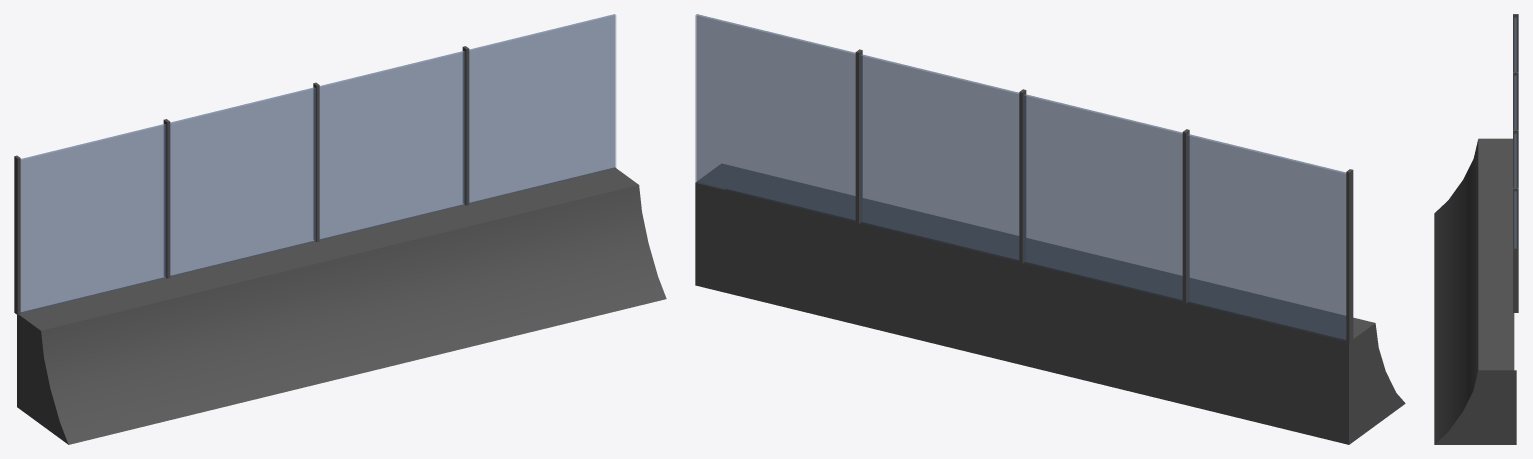
File: wall_straight_001.fbx
The picture shows the model from 3 angles, left to right: view 1: azimuth 30°, elevation 25°; view 2: azimuth 150°, elevation 25°; view 3: azimuth 270°, elevation 25°; orthographic projection. The views are drawn at different scales.
Parts seen in each view (by area): view 1: wall_straight; view 2: wall_straight; view 3: wall_straight.
Part boxes in pixels (box(x1,y1,x2,y2)): wall_straight: box(14, 14, 666, 444); wall_straight: box(695, 14, 1405, 444); wall_straight: box(1434, 14, 1518, 444).
Size of the model in its own units: 1002 by 400 by 153.
